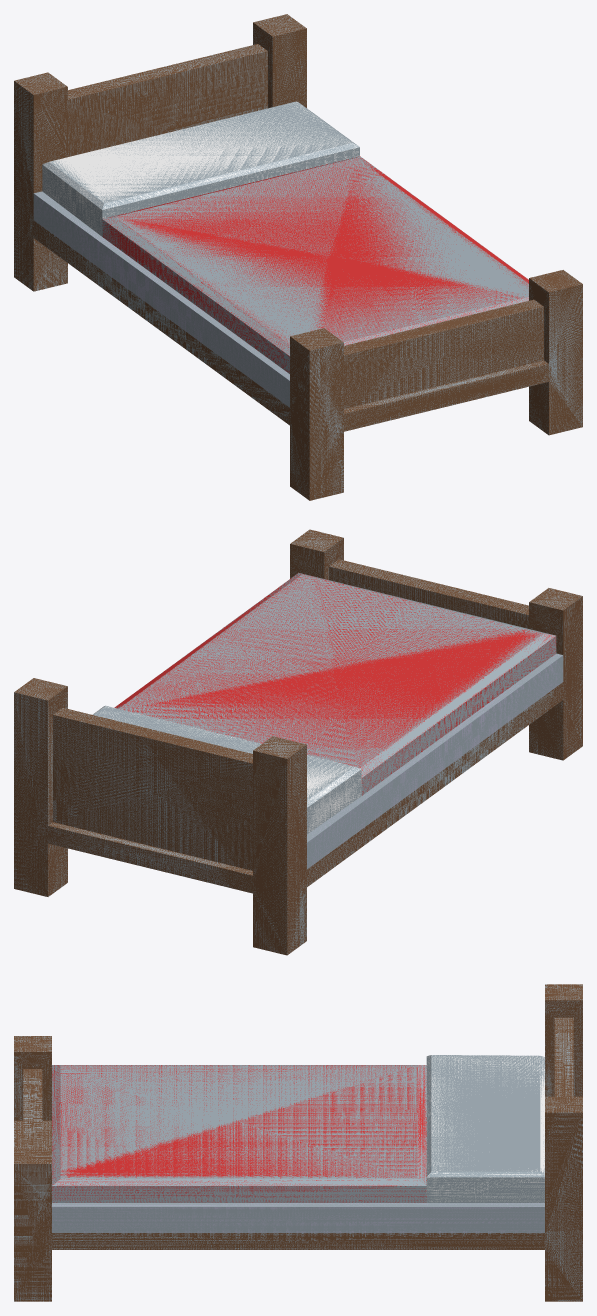
File: Bed.fbx
The picture shows the model from 3 angles, top to bottom: view 1: azimuth 30°, elevation 25°; view 2: azimuth 150°, elevation 25°; view 3: azimuth 270°, elevation 25°; orthographic projection. The views are drawn at different scales.
Visible parts, largest first — view 1: Model; view 2: Model; view 3: Model.
Boxes of the visible parts, box(x1,y1,x2,y2) form: Model: box(14, 14, 582, 500); Model: box(14, 529, 582, 955); Model: box(14, 984, 582, 1301).
Size of the model in its own units: 1.6 by 1.14 by 3.
